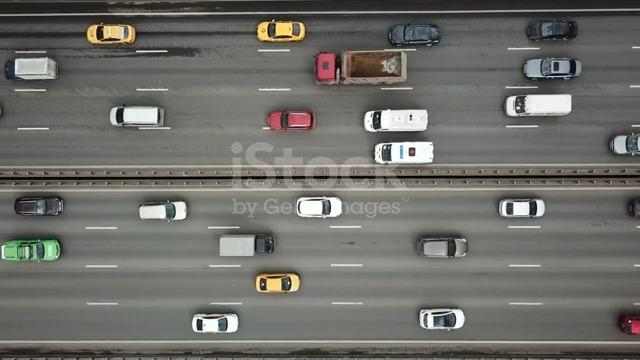Cars: (504, 94, 573, 118), (364, 109, 429, 133), (1, 239, 62, 263), (374, 141, 435, 165), (523, 57, 583, 81), (109, 105, 165, 129), (388, 23, 442, 47), (526, 19, 578, 42), (257, 19, 306, 43), (87, 23, 137, 45), (296, 196, 343, 219), (139, 200, 188, 222), (15, 196, 64, 217), (267, 110, 316, 131), (256, 272, 301, 293), (609, 133, 640, 157)
